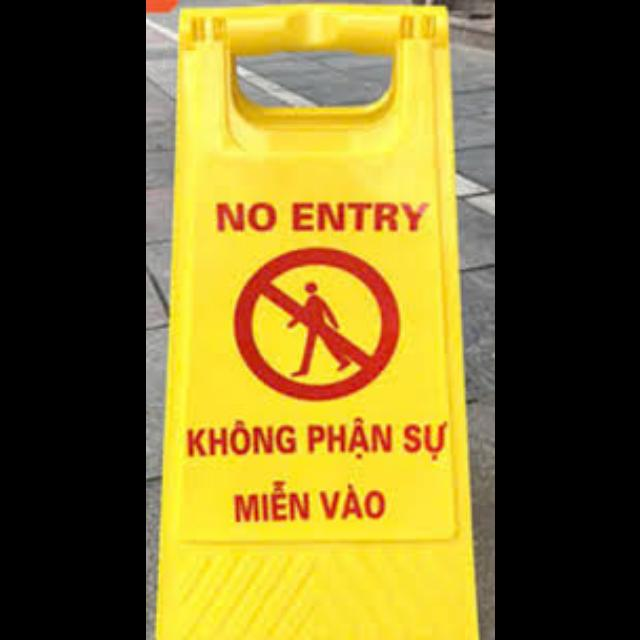no_entry: (158, 4, 471, 638)
